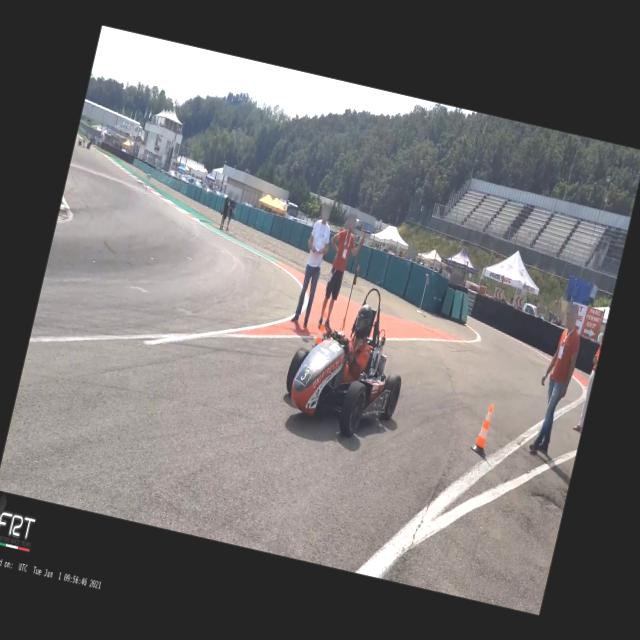large_orange_cone: (469, 402, 497, 458), (311, 311, 328, 348)
